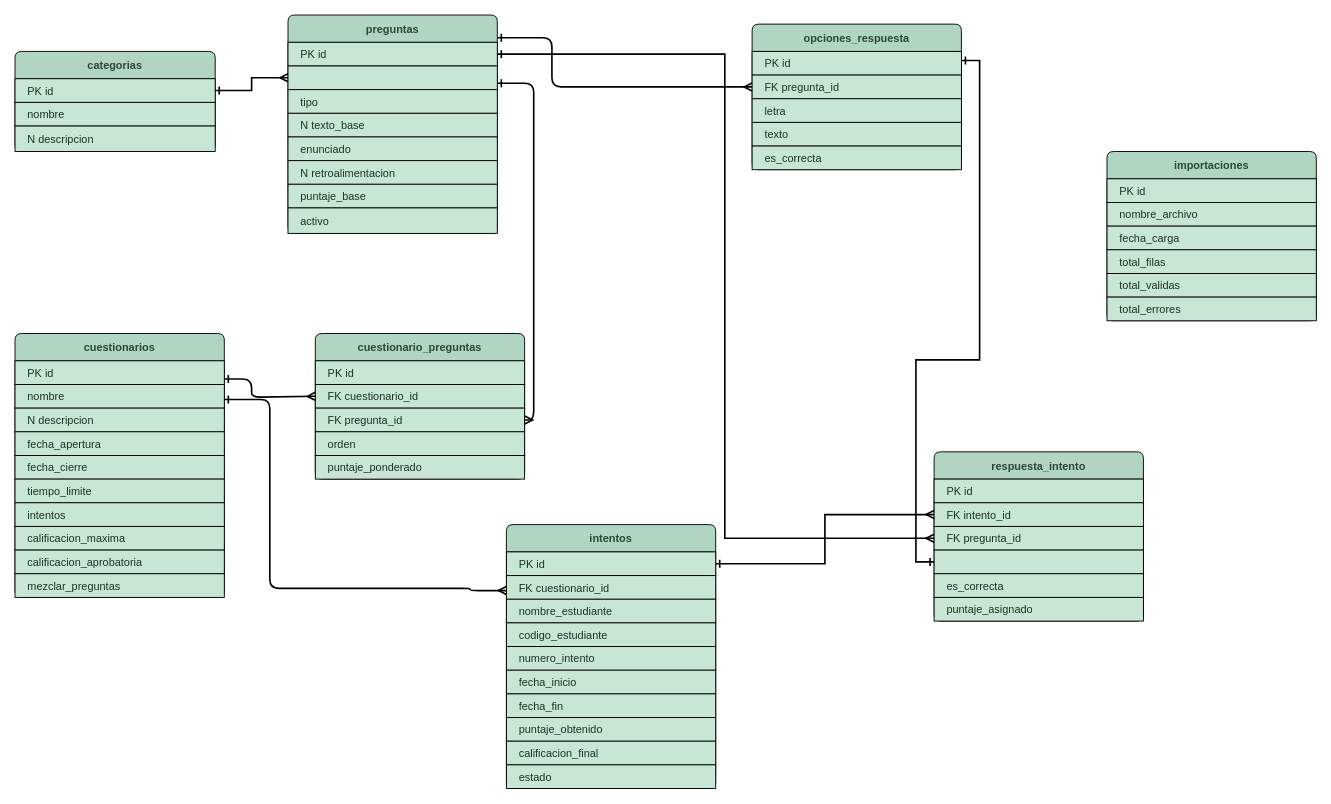
Image size: 1331x804. Some labels were removed from this diagram. The centre of each missing label's shape, as x and y in pixels:
"FK categoria_id" goes at [392,77].
"FK opcion_seleccionada_id" goes at [1038,561].
